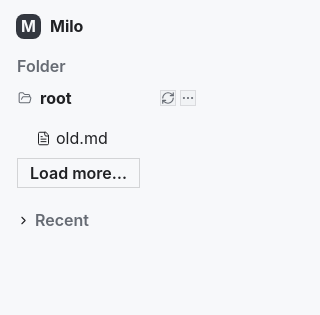
Test: keeps old results on snapshot expiry and retries from zero rather than appending a new snapshot
The image size is (320, 315).
What coordinates should you click on to do the following:
click the button "Load more…"
I would click on:
 (79, 173)
Its box is x1=17 y1=158 x2=140 y2=188.
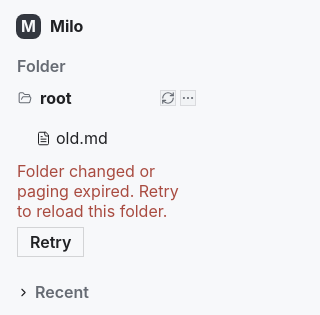
Expected: the button "old.md" is shown, x1=10 y1=124 x2=199 y2=153
Expected: the message shows "Folder changed or paging expired. Retry to reload this folder.", x1=17 y1=161 x2=179 y2=221
What coordinates should you click on to do the following:
click the button "Retry"
I would click on:
 (51, 242)
Its box is x1=17 y1=227 x2=84 y2=257.
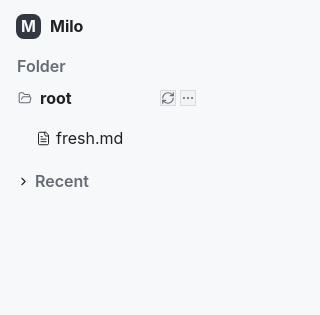
Expected: the button "fresh.md" is shown, x1=10 y1=124 x2=199 y2=153
Expected: the button "old.md" is gone
